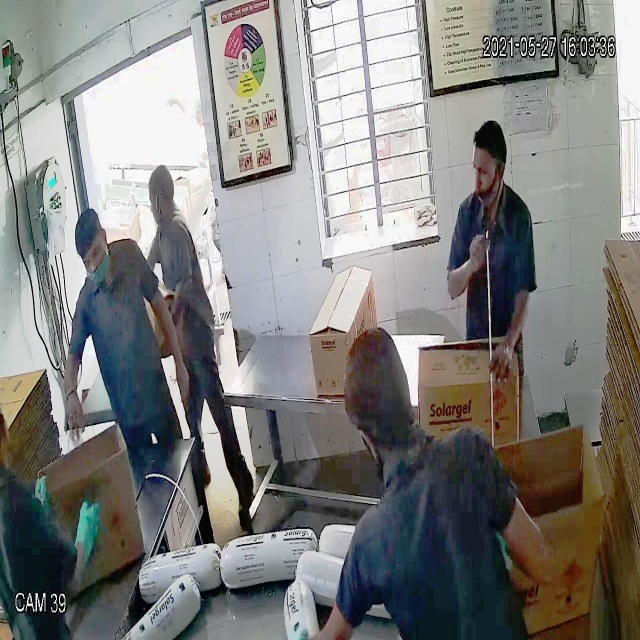Sin_gafas: (76, 237, 109, 273), (470, 156, 506, 187)
